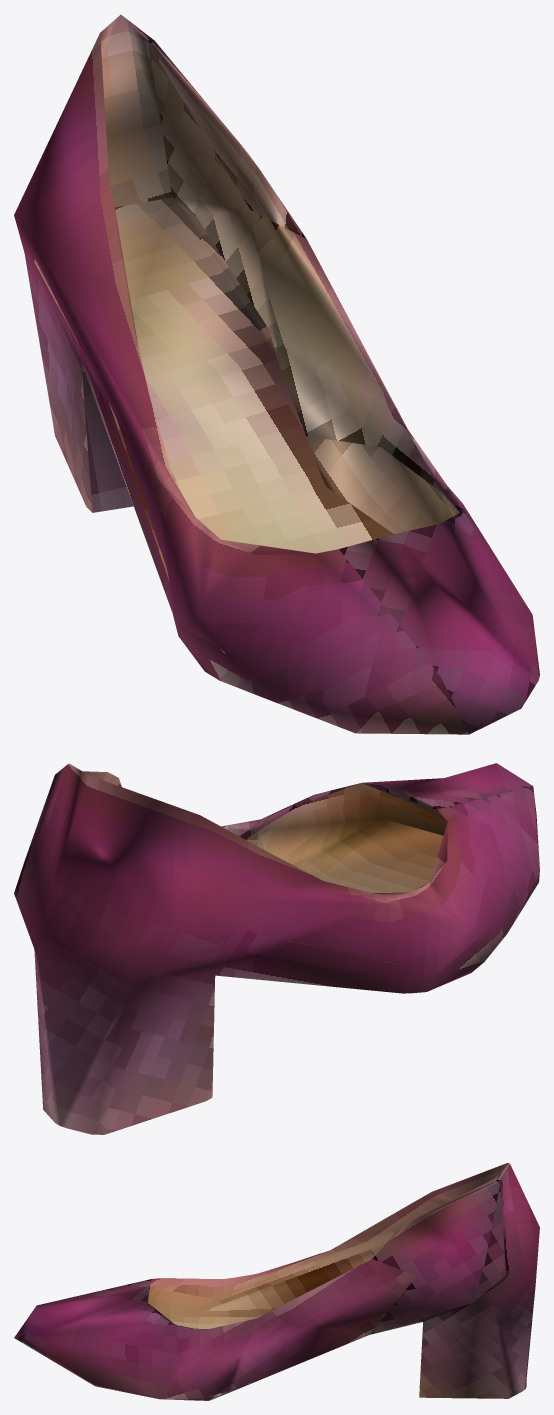
Rendered from Chelsea_lo_fl_rdheel_zAQrnhlEfw8-low.glb.
The picture shows the model from 3 angles, top to bottom: view 1: azimuth 30°, elevation 25°; view 2: azimuth 150°, elevation 25°; view 3: azimuth 270°, elevation 25°; orthographic projection. The views are drawn at different scales.
Parts seen in each view (by area): view 1: Chelsea_lo_fl_rdheel_zAQrnhlEfw8; view 2: Chelsea_lo_fl_rdheel_zAQrnhlEfw8; view 3: Chelsea_lo_fl_rdheel_zAQrnhlEfw8.
Part boxes in pixels (box(x1,y1,x2,y2)): Chelsea_lo_fl_rdheel_zAQrnhlEfw8: box(14, 14, 539, 734); Chelsea_lo_fl_rdheel_zAQrnhlEfw8: box(14, 763, 539, 1134); Chelsea_lo_fl_rdheel_zAQrnhlEfw8: box(14, 1163, 539, 1400).
Bounding box in the file's own units: 0.0828 × 0.123 × 0.2547.
Materials: 1 (1 with a texture image).
